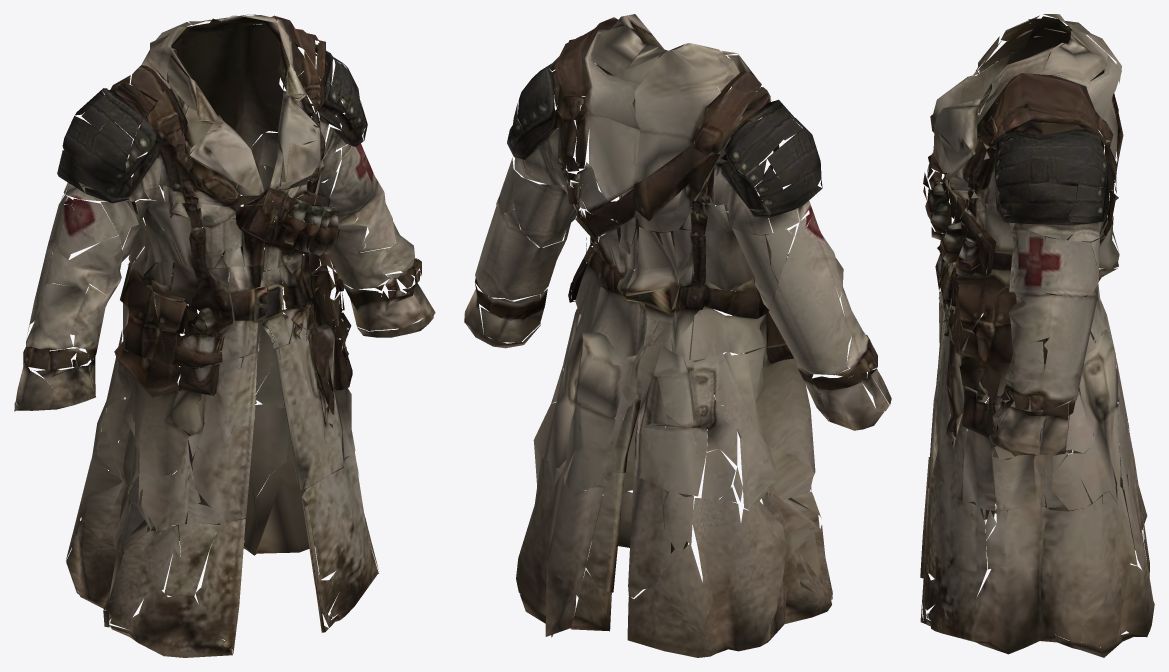
The model's file is a_ward_coat_ain.glb.
The picture shows the model from 3 angles, left to right: view 1: azimuth 30°, elevation 25°; view 2: azimuth 150°, elevation 25°; view 3: azimuth 270°, elevation 25°; orthographic projection. The views are drawn at different scales.
Parts seen in each view (by area): view 1: tripo_node_2e97382c-2fde-45fd-889a-63a90244399b; view 2: tripo_node_2e97382c-2fde-45fd-889a-63a90244399b; view 3: tripo_node_2e97382c-2fde-45fd-889a-63a90244399b.
Boxes of the visible parts, box(x1,y1,x2,y2) form: tripo_node_2e97382c-2fde-45fd-889a-63a90244399b: box(14, 14, 435, 657); tripo_node_2e97382c-2fde-45fd-889a-63a90244399b: box(464, 14, 891, 657); tripo_node_2e97382c-2fde-45fd-889a-63a90244399b: box(920, 14, 1154, 657).
Bounding box in the file's own units: 0.7367 × 0.9896 × 0.3653.
Materials: 1 (1 with a texture image).
